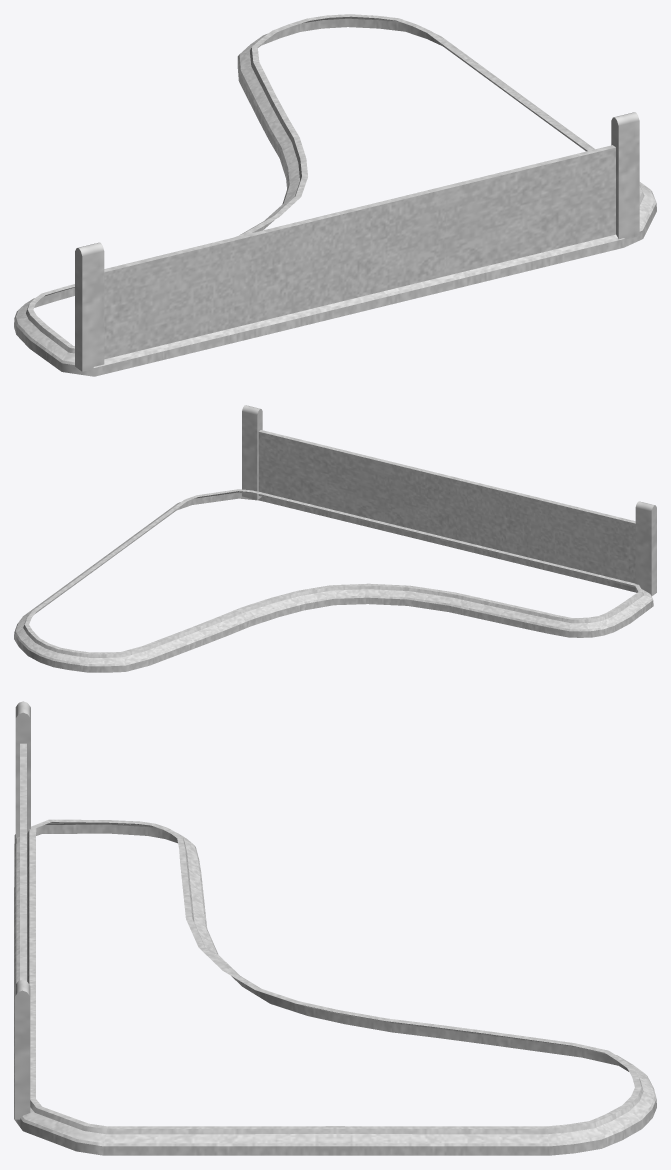
File: pref_sm_garden_new_gardening17_lv3.fbx
3 views of the same model, one above another, from view 1: azimuth 30°, elevation 25°; view 2: azimuth 150°, elevation 25°; view 3: azimuth 270°, elevation 25° (orthographic). The views are drawn at different scales.
Visible parts, largest first — view 1: sm_garden_new_gardening17_lv3; view 2: sm_garden_new_gardening17_lv3; view 3: sm_garden_new_gardening17_lv3.
Boxes of the visible parts, x1,y1,x2,y2 form: sm_garden_new_gardening17_lv3: (14,14,656,376); sm_garden_new_gardening17_lv3: (14,405,656,672); sm_garden_new_gardening17_lv3: (14,701,656,1155).
Bounding box in the file's own units: 8.96 × 1.78 × 7.57.
